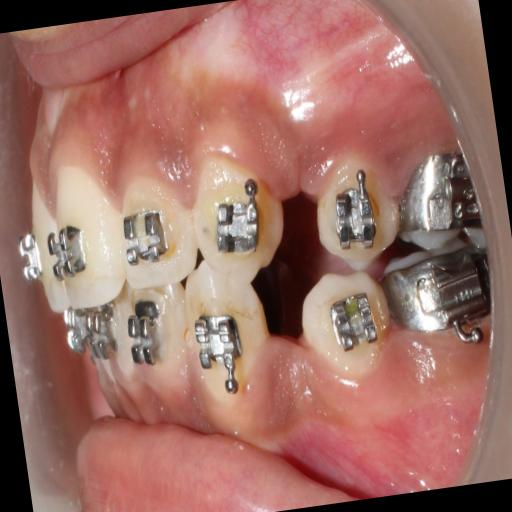correct_brace: (310, 152, 407, 276), (210, 186, 266, 266), (116, 198, 176, 272), (44, 216, 90, 286)
incorrect_brace: (114, 173, 202, 295), (328, 180, 382, 256)
